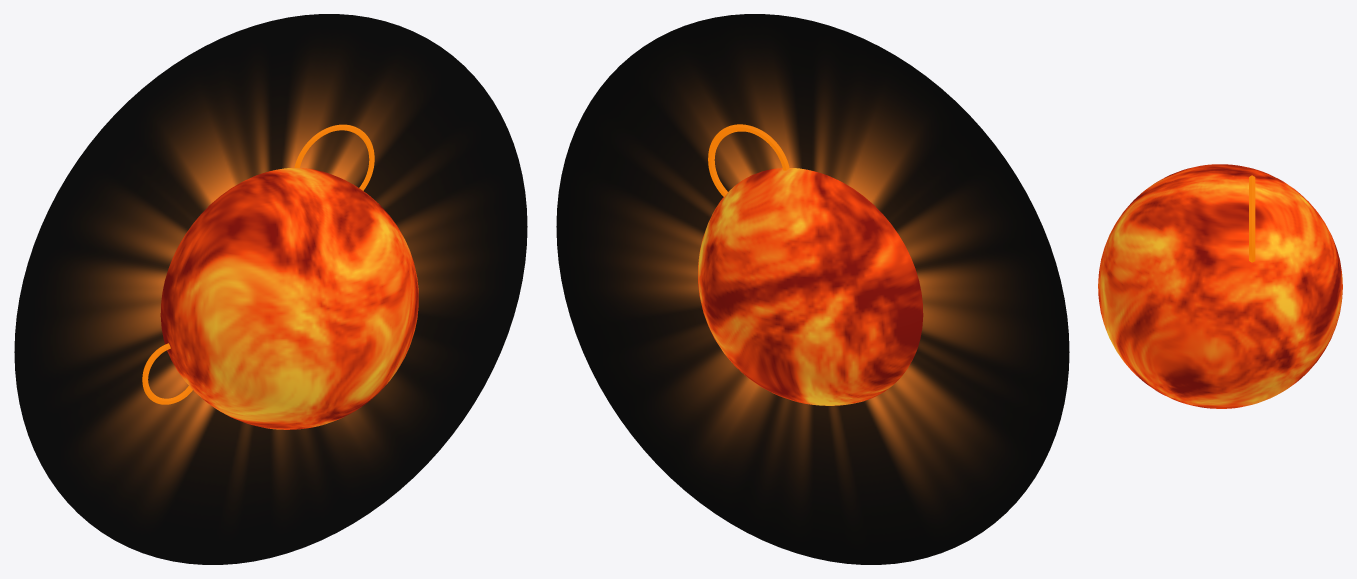
File: sun.glb
3 renders of one model, left to right at view 1: azimuth 30°, elevation 25°; view 2: azimuth 150°, elevation 25°; view 3: azimuth 270°, elevation 25°, orthographic. The views are drawn at different scales.
Parts seen in each view (by area): view 1: body, spin; view 2: body, spin; view 3: spin, body.
Boxes of the visible parts, bbox=[...] form: body: bbox=[14, 14, 527, 564]; spin: bbox=[160, 168, 418, 429]; body: bbox=[556, 14, 1069, 564]; spin: bbox=[698, 168, 923, 405]; spin: bbox=[1098, 164, 1342, 408]; body: bbox=[1249, 175, 1255, 262].
Bounding box in the file's own units: 1 × 1 × 0.4444.
Materials: 3 (2 with a texture image).
